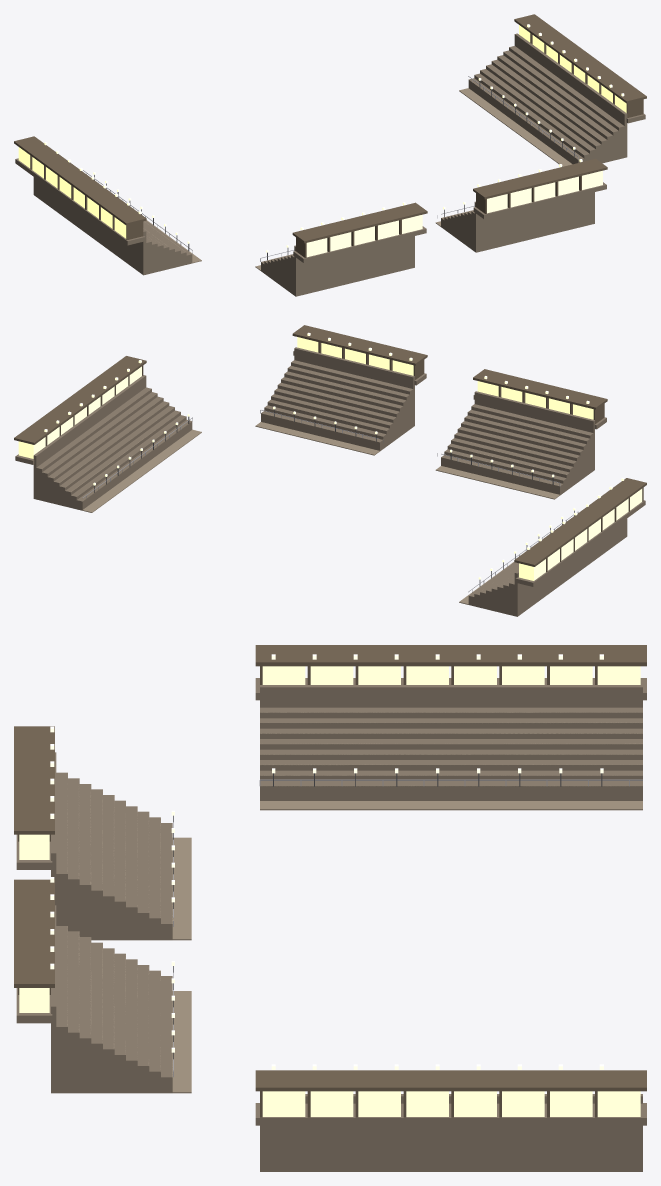
The model's file is SM_Zoo_Stands.glb.
The picture shows the model from 3 angles, top to bottom: view 1: azimuth 30°, elevation 25°; view 2: azimuth 150°, elevation 25°; view 3: azimuth 270°, elevation 25°; orthographic projection. The views are drawn at different scales.
Parts seen in each view (by area): view 1: SM_Zoo_Stands; view 2: SM_Zoo_Stands; view 3: SM_Zoo_Stands.
Boxes of the visible parts, x1=… form: SM_Zoo_Stands: x1=14, y1=14, x2=646, y2=296; SM_Zoo_Stands: x1=14, y1=325, x2=646, y2=616; SM_Zoo_Stands: x1=14, y1=645, x2=646, y2=1171.
Size of the model in its own units: 76.56 by 9.45 by 46.28.
